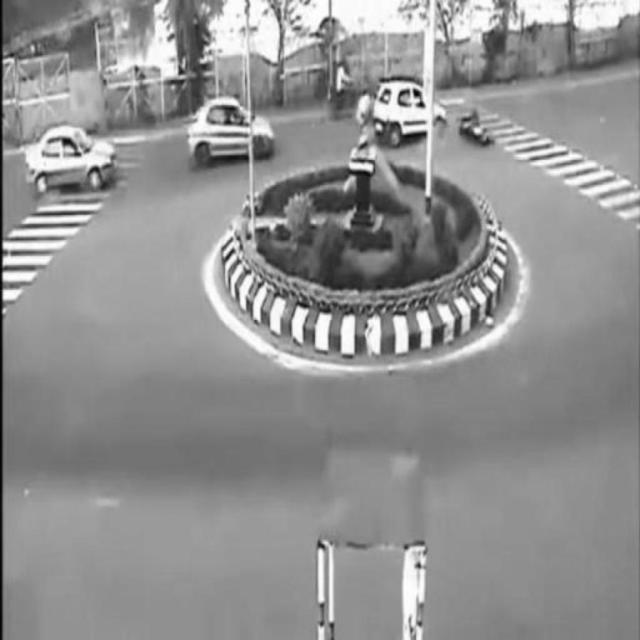vehicle: (24, 126, 114, 194), (354, 78, 452, 136), (190, 99, 273, 157), (327, 58, 371, 116)
